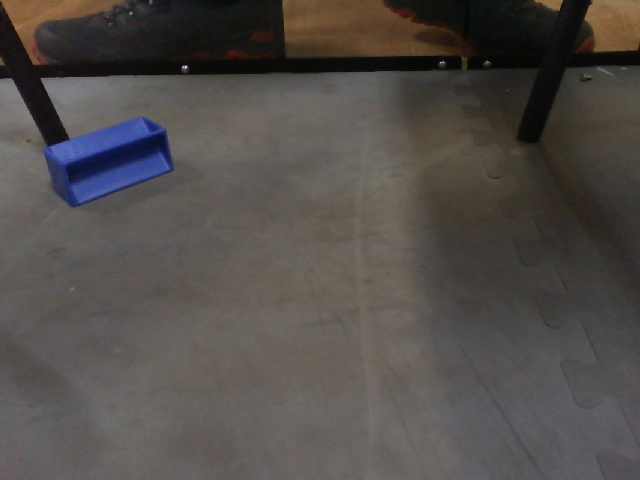BlueSample: (40, 112, 176, 209)
